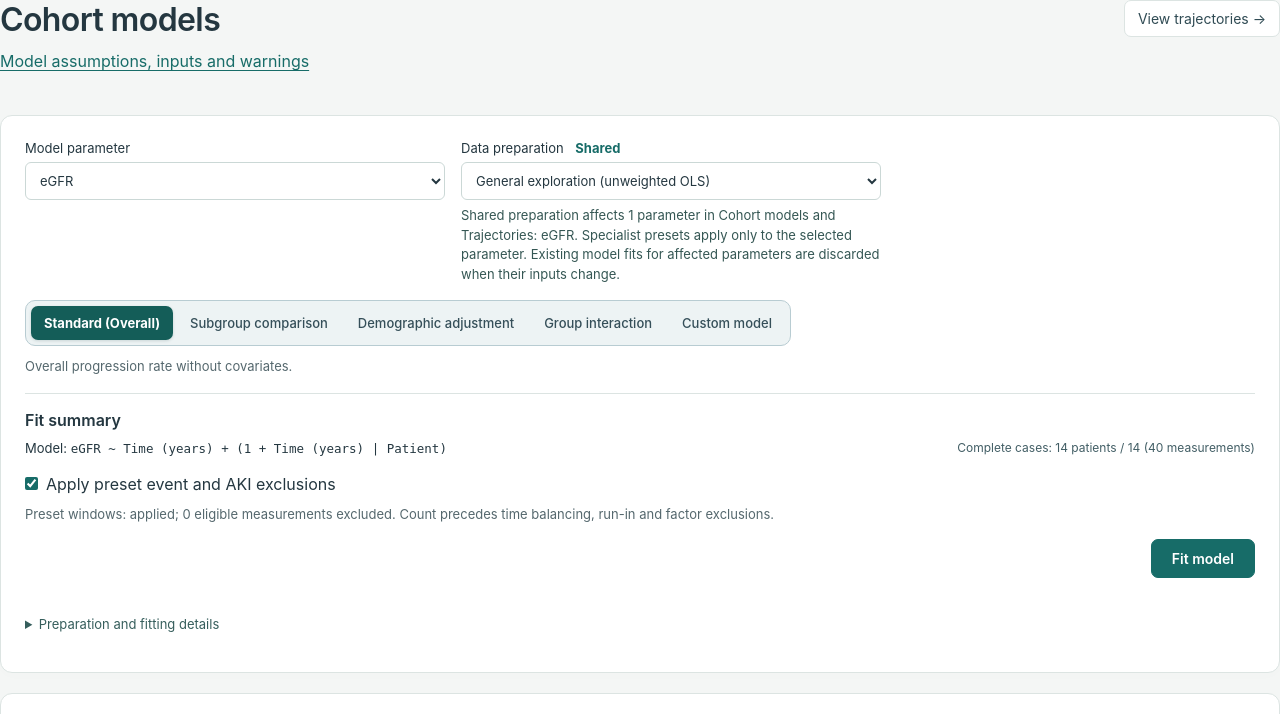
Test: CohortModelsWorkspace › counts only patients with enough measurement times, as the validation does
Click the button "Subgroup comparison". click: coordinates (259, 323)
box: [177,306,341,340]
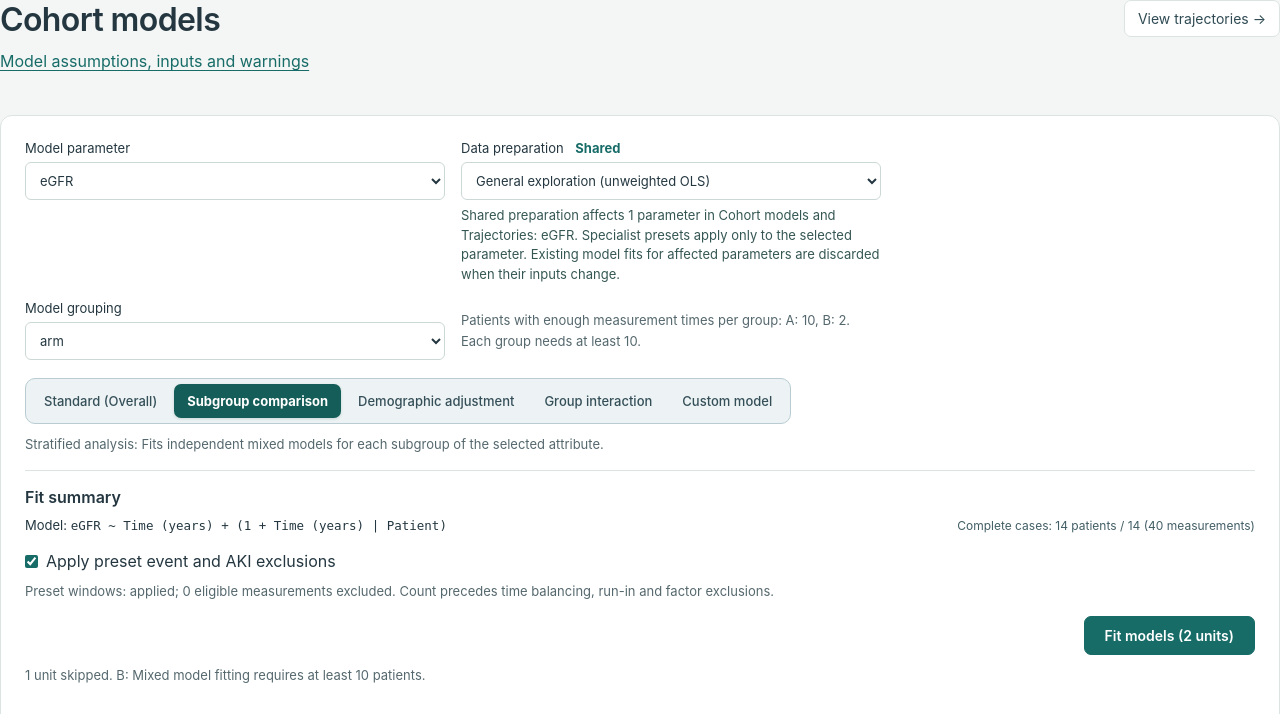
Check: the button "Fit models (2 units)" is enabled, box [1084,616,1255,655]
Check: the text "Patients with enough measurement times per group: A: 10, B: 2. Each group needs at least 10." is shown, box [461,310,881,352]
